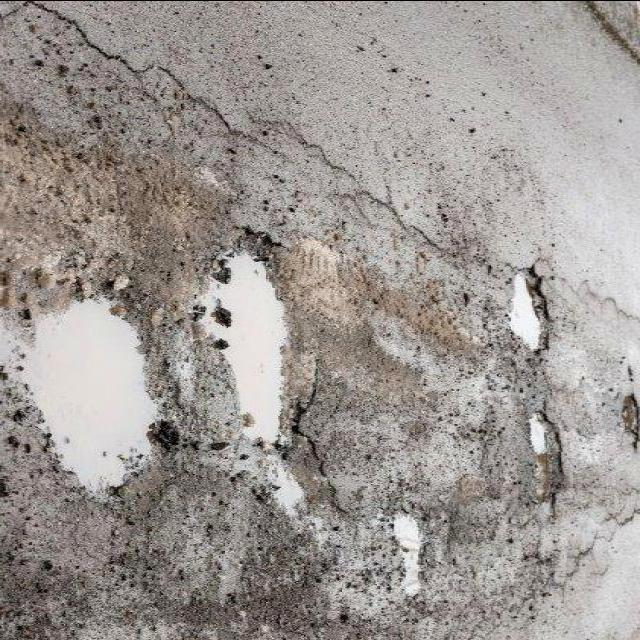lubang: (10, 262, 168, 505), (220, 227, 284, 456), (497, 262, 550, 353), (524, 398, 560, 510), (402, 513, 439, 598), (624, 389, 640, 464)
